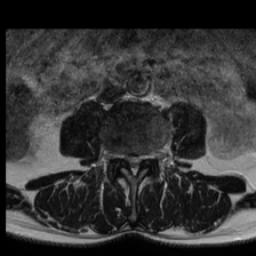CCS_normal: (131, 146, 138, 180)
LFS_stenosis: (144, 146, 151, 166)
LLS_stenosis: (138, 147, 144, 169)
RFS_stenosis: (117, 146, 125, 166)
RLS_stenosis: (124, 148, 131, 168)
